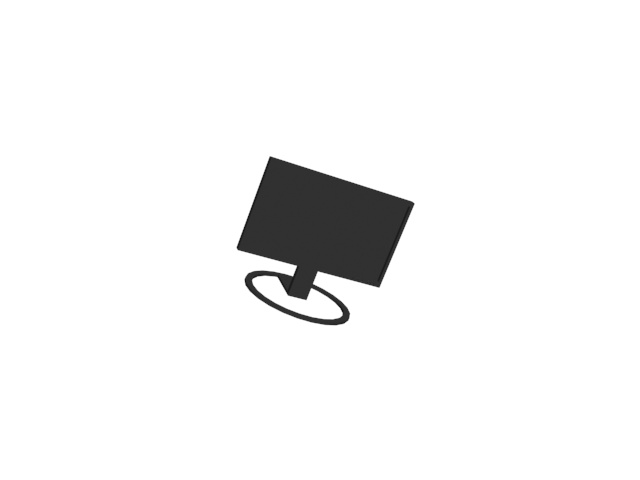monitor: (233, 153, 416, 328)
